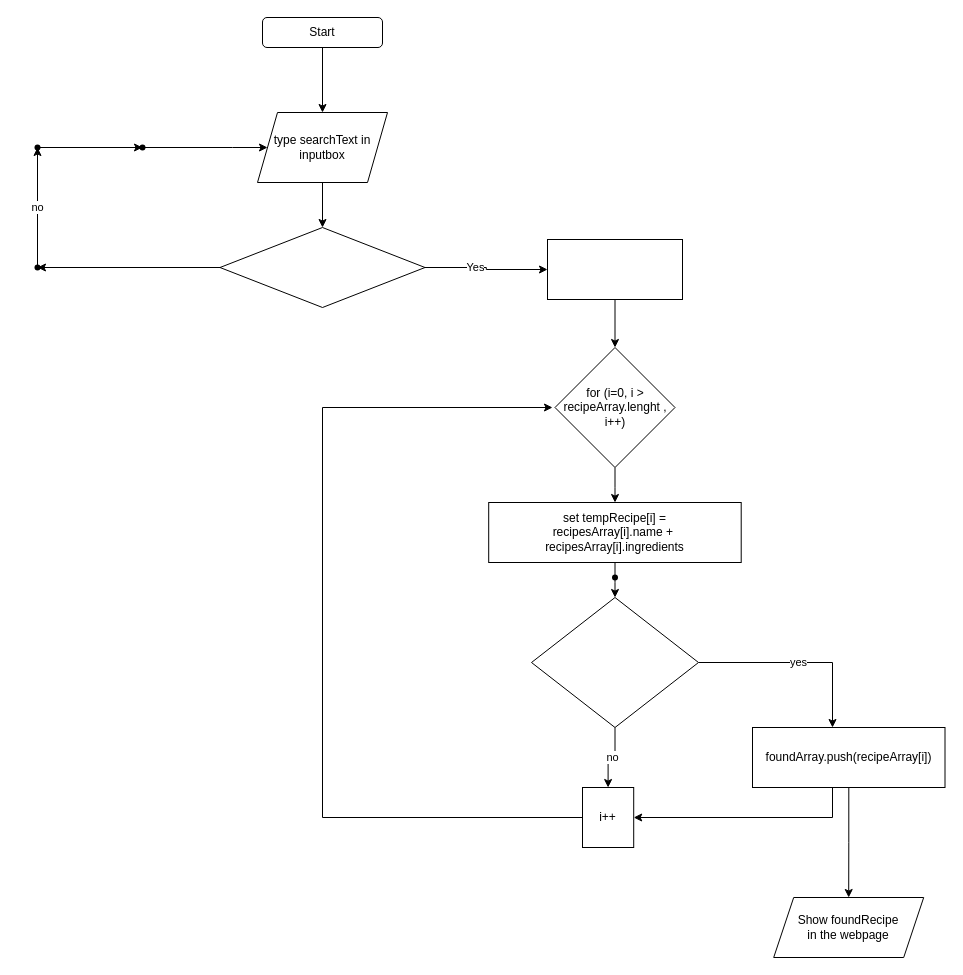
The diagram is 963 pixels wide and 975 high, and some of its shapes have lost their labels. Each missing label, with the centre of its shape:
"if searchtext is in tempRecipe[i]" goes at (614,662).
"trim searchText.toLowercase" goes at (614,269).
"validation searchText > 3 charactor" goes at (322,267).
